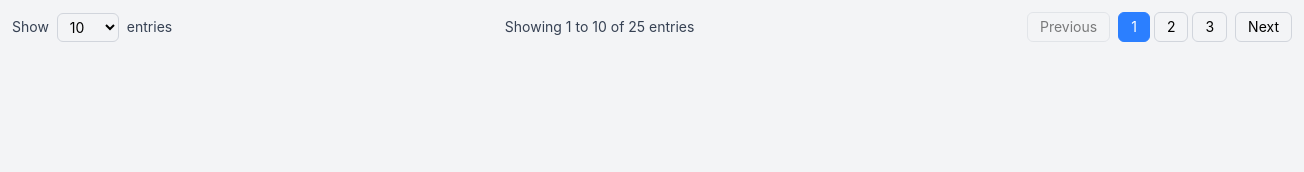
it: Pagination › moves to the next and previous page
What coordinates should you click on to do the following:
click the button "Next"
I would click on:
 (1264, 27)
Its box is [1235,12,1292,42].
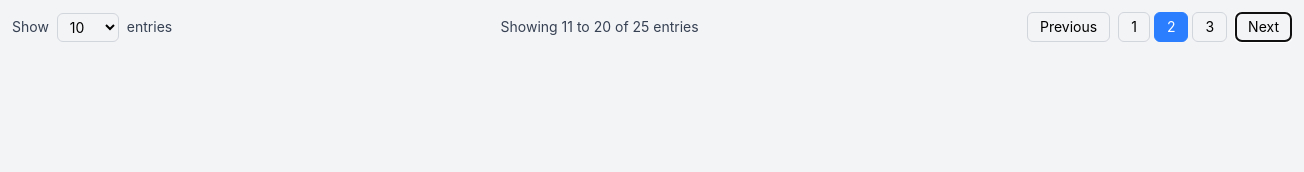
Result: the text "Showing 11 to 20 of 25 entries" is shown at [500,18,699,35]
What coordinates should you click on to do the following:
click the button "Previous"
I would click on:
 (1069, 27)
Its box is [1027,12,1110,42].
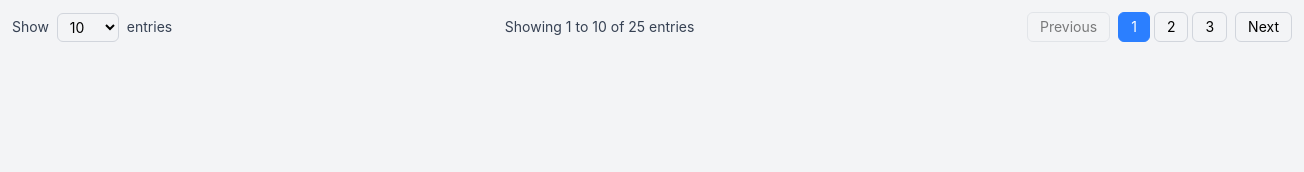
Result: the text "Showing 1 to 10 of 25 entries" is shown at [505,18,694,35]
